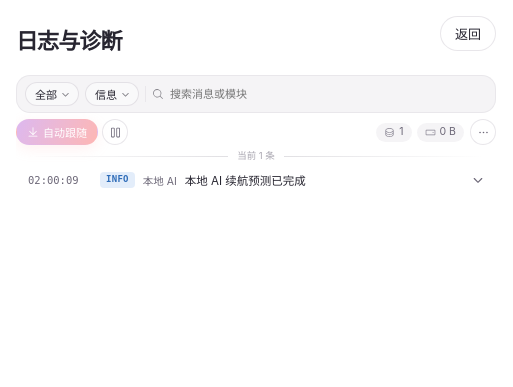
Test case: LogPage toolbar and dialogs › localizes structured AI events and field labels
The width and height of the screenshot is (513, 387).
Expected: the text "本地 AI 续航预测已完成" is shown, left=185, top=174, right=306, bottom=188
Click the button with aria-label "展开详情" at (256, 180), box left=16, top=165, right=496, bottom=195
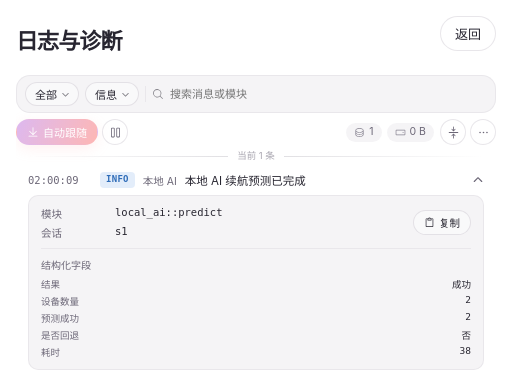
Result: the text "结果" is shown at left=41, top=277, right=60, bottom=291
Result: the text "成功" is shown at left=452, top=279, right=471, bottom=290
Result: the text "设备数量" is shown at left=41, top=294, right=79, bottom=308
